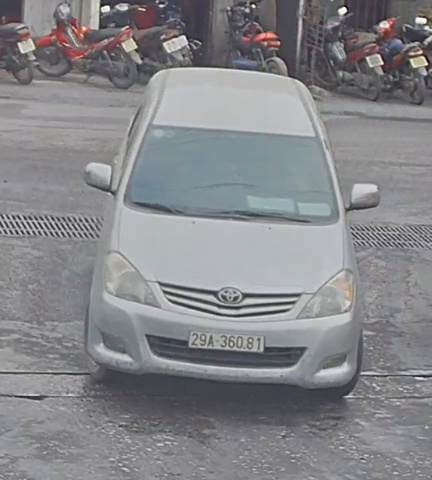vehicle plate: (185, 328, 271, 349)
